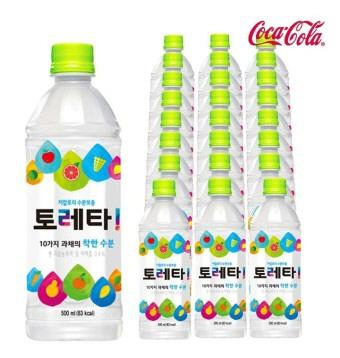toreta: (20, 40, 126, 344), (138, 177, 192, 342), (250, 178, 303, 340), (195, 180, 248, 342)
